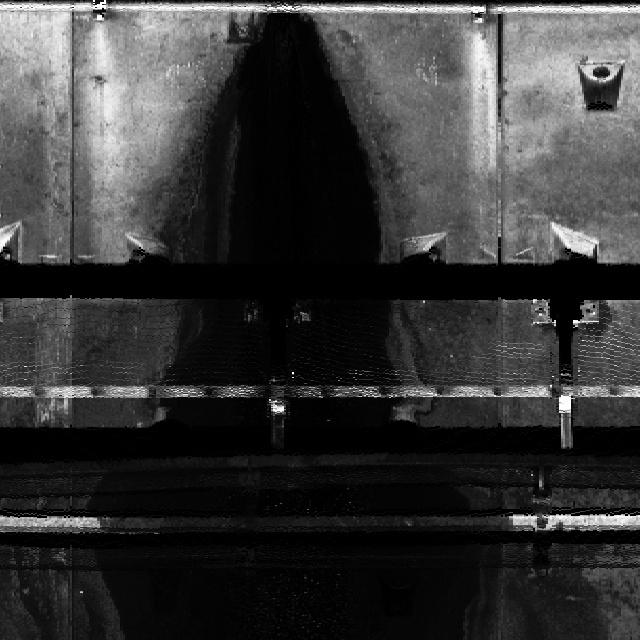leakage: (85, 2, 498, 631)
